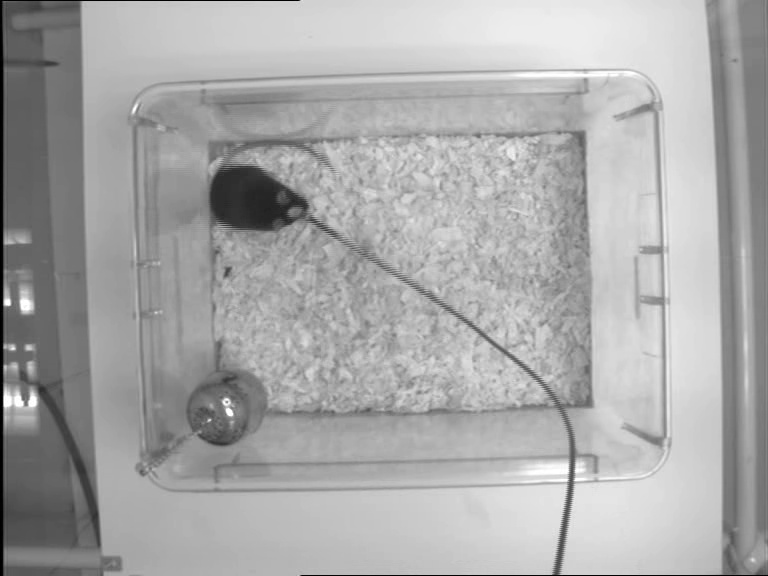mice: (202, 132, 321, 230)
